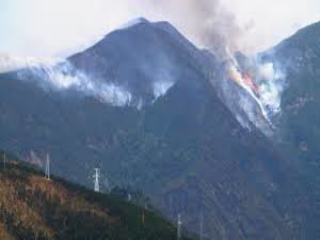fire: (236, 58, 257, 96)
smoke: (19, 52, 179, 120), (191, 2, 253, 60), (257, 54, 293, 118)
